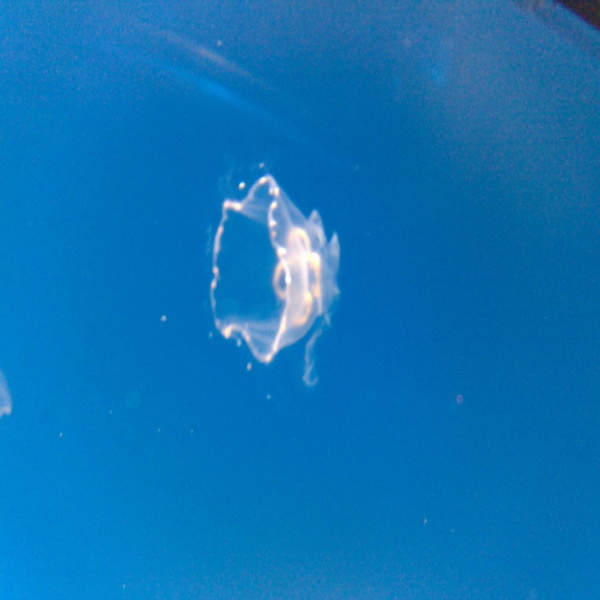Jellyfish: (204, 140, 342, 388)
